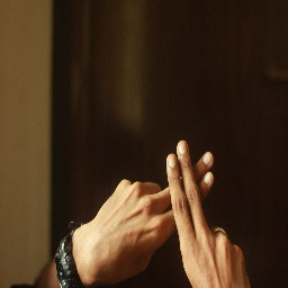F: (131, 128, 239, 255)
